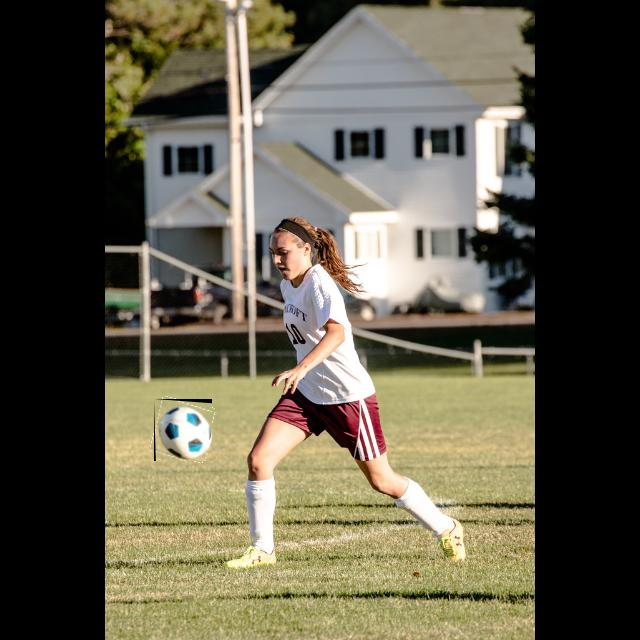Football: (154, 399, 212, 461)
